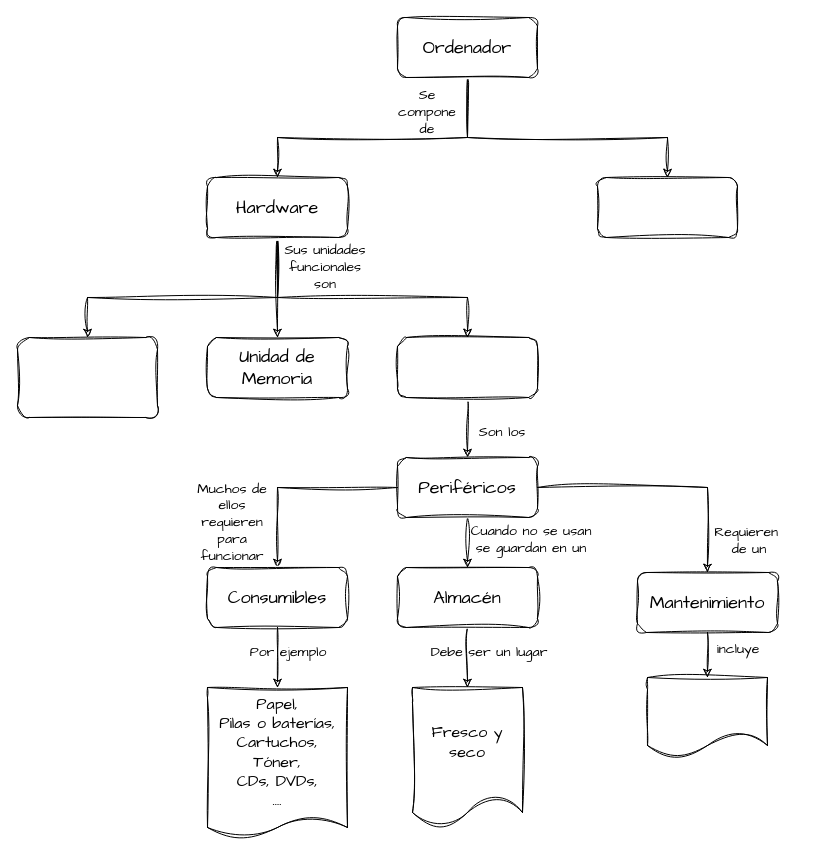
The diagram is 837 pixels wide and 855 high, and some of its shapes have lost their labels. Each missing label, with the box of its shape:
CPU (Unidad Central de proceso): (16, 336, 158, 418)
Limpieza , ...: (646, 676, 768, 758)
Software: (596, 176, 738, 238)
Unidad de Entrada/Salida: (396, 336, 538, 398)
